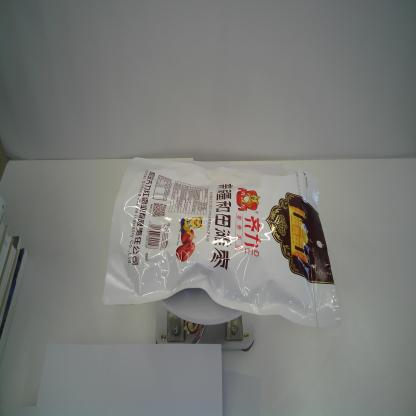Dried Food: (100, 155, 344, 331)
